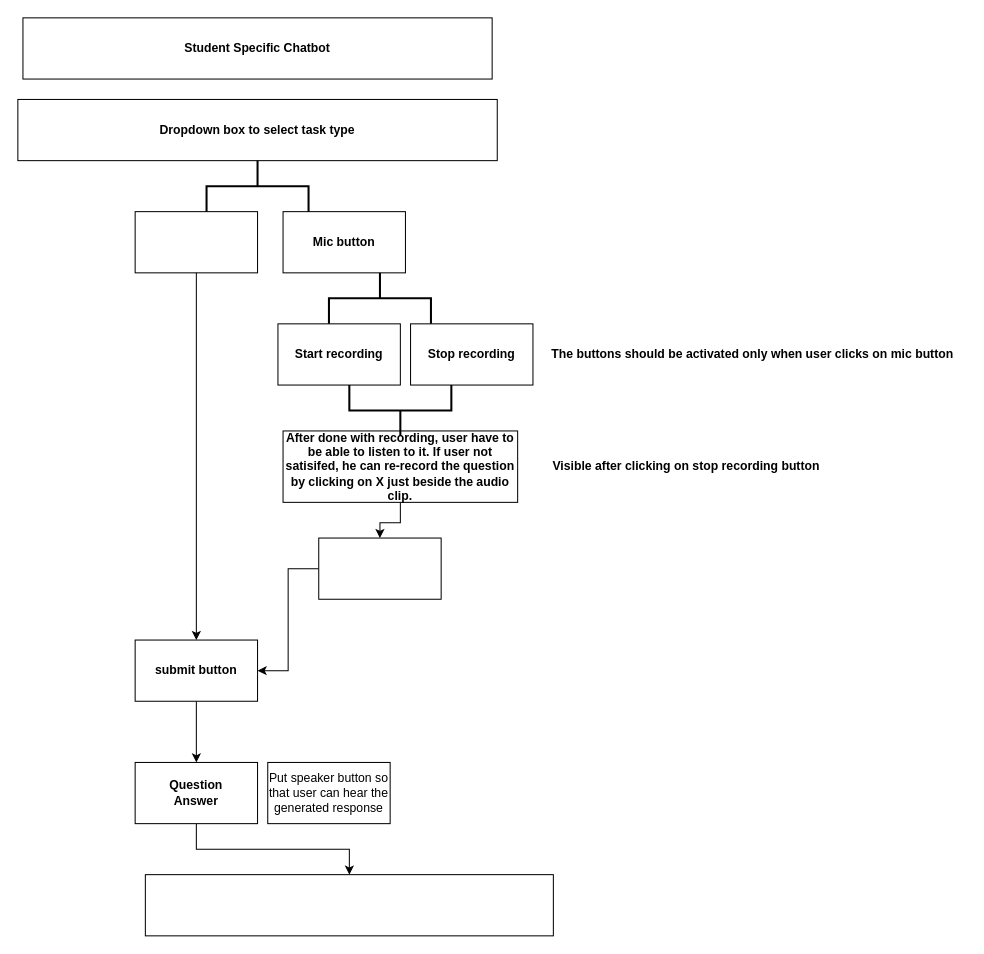
This 984x954 diagram has some shape labels left out. The shapes that lost their labels are listed below. From the top down, each one's centre as x and y in pixels, then its label:
the point at 196,242: Box to enter the prompt
the point at 379,568: If saatisfied with the audio clip, click on submit button
the point at 348,905: References as images side by side
